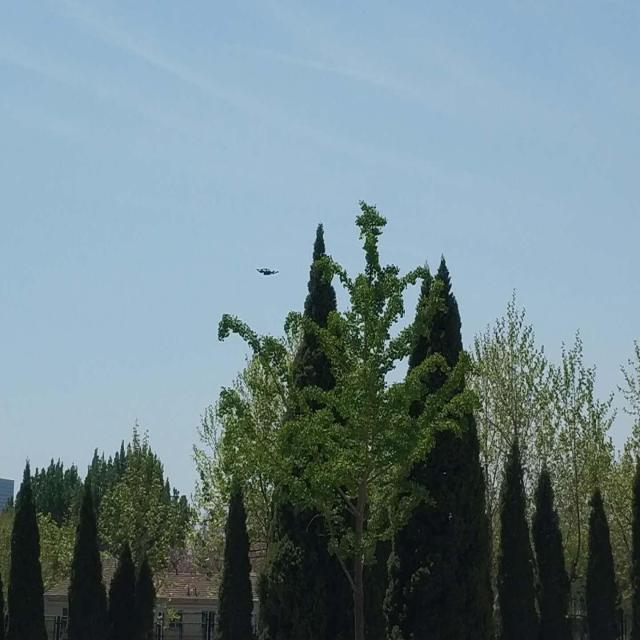drone: (252, 254, 282, 288)
